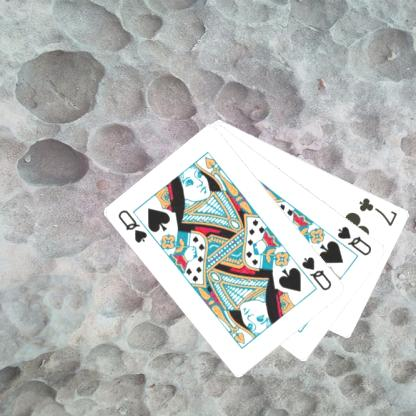7C: (356, 194, 399, 228)
QS: (299, 254, 334, 292), (335, 223, 373, 257), (116, 207, 149, 244)
